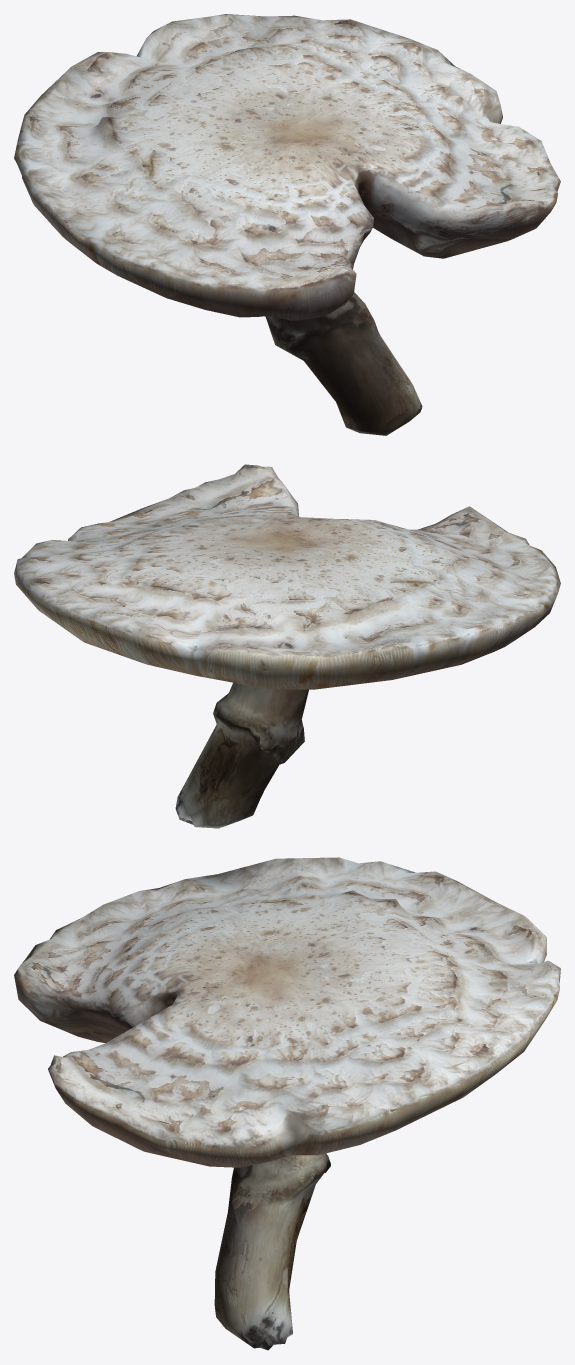
The model's file is shroom-4.gltf.
3 renders of one model, top to bottom at view 1: azimuth 30°, elevation 25°; view 2: azimuth 150°, elevation 25°; view 3: azimuth 270°, elevation 25°, orthographic. The views are drawn at different scales.
Parts seen in each view (by area): view 1: mushroom_11; view 2: mushroom_11; view 3: mushroom_11.
Boxes of the visible parts, x1,y1,x2,y2 form: mushroom_11: (14, 14, 560, 435); mushroom_11: (14, 464, 560, 828); mushroom_11: (14, 857, 560, 1350).
Size of the model in its own units: 98.94 by 63.16 by 93.36.
Materials: 1 (1 with a texture image).
